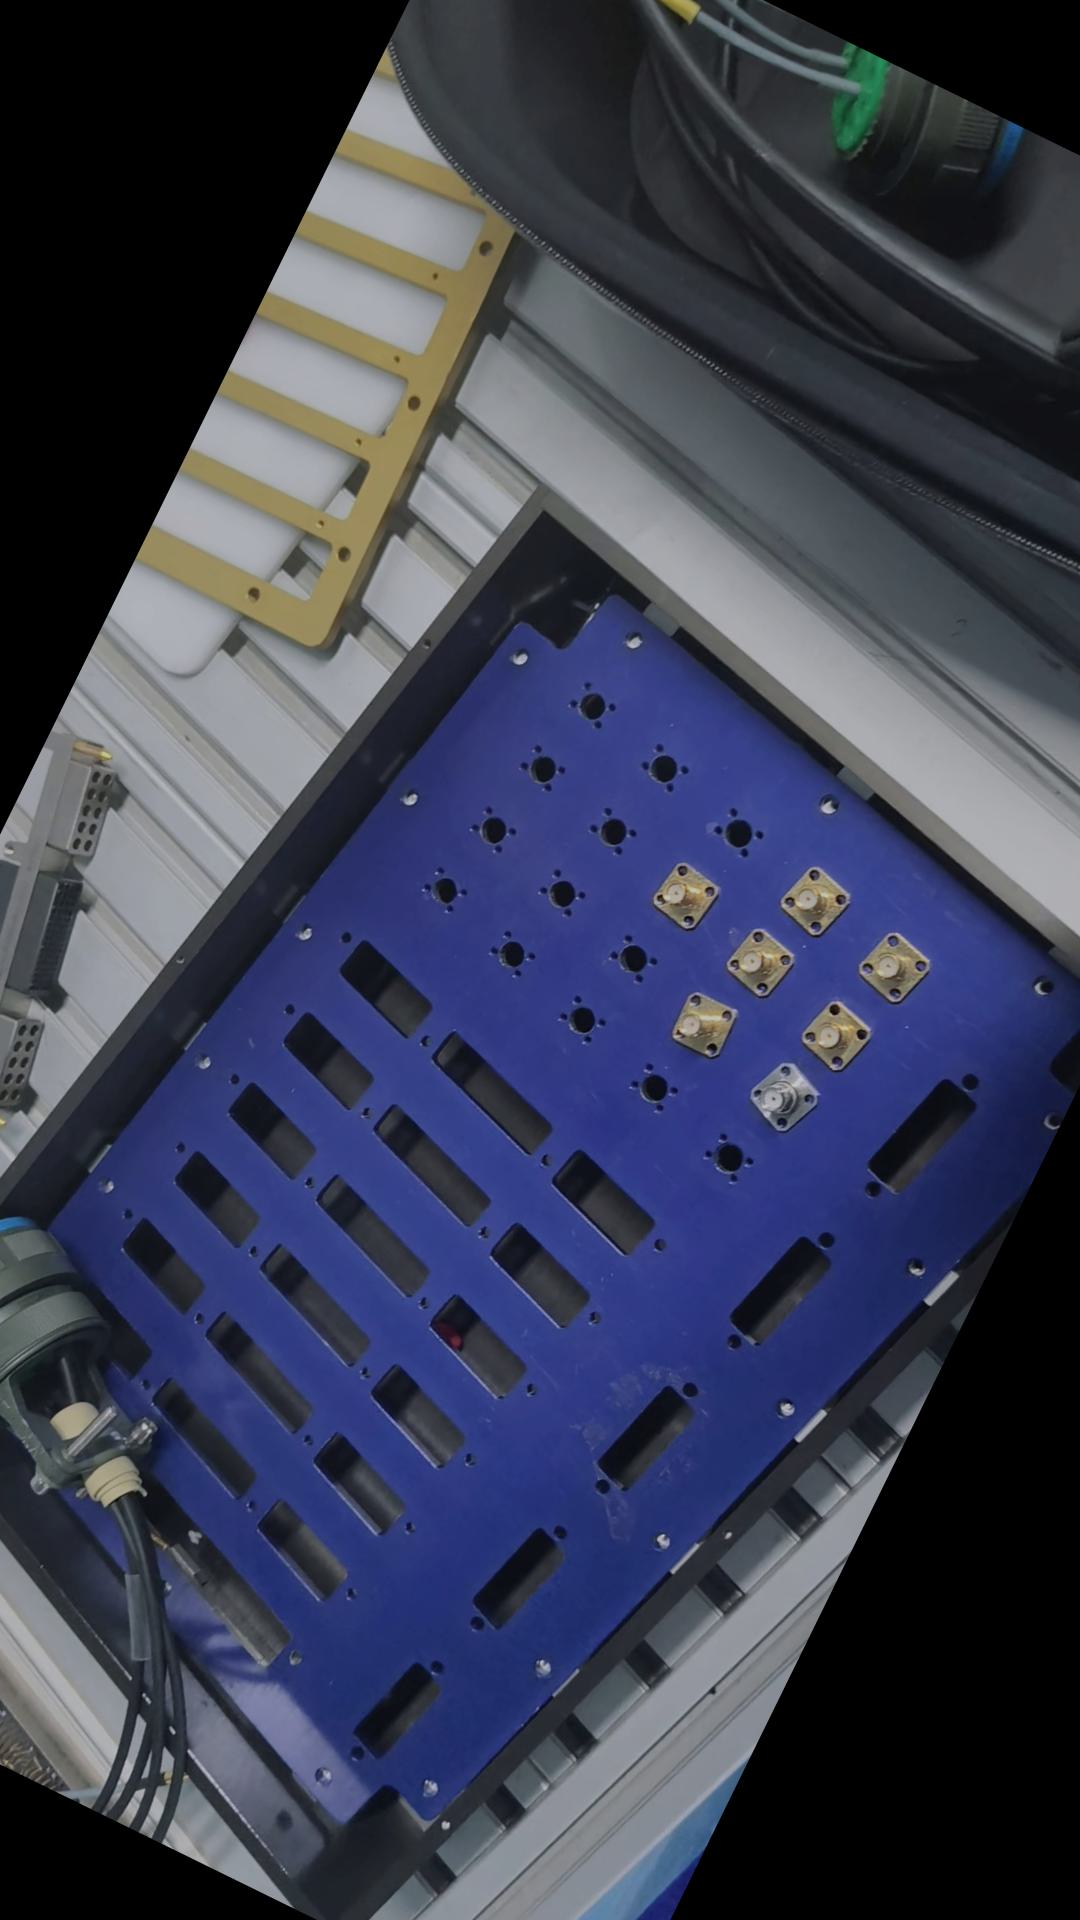SMA: (760, 855, 858, 945), (737, 1050, 832, 1142), (789, 985, 881, 1075), (634, 851, 728, 938), (711, 918, 804, 1004), (849, 920, 936, 1007), (657, 981, 741, 1063)
